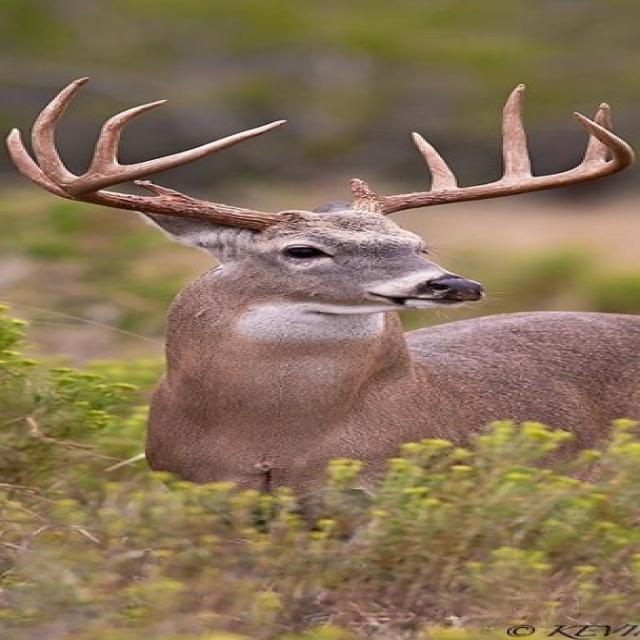L-F: (340, 110, 637, 216)
L-G1: (346, 176, 384, 201)
L-G2: (410, 131, 460, 191)
L-G3: (498, 82, 535, 179)
R-F: (57, 119, 305, 232)
R-G1: (131, 179, 193, 197)
R-G2: (4, 126, 60, 195)
R-G3: (30, 75, 94, 188)
R-G4: (86, 98, 171, 173)
